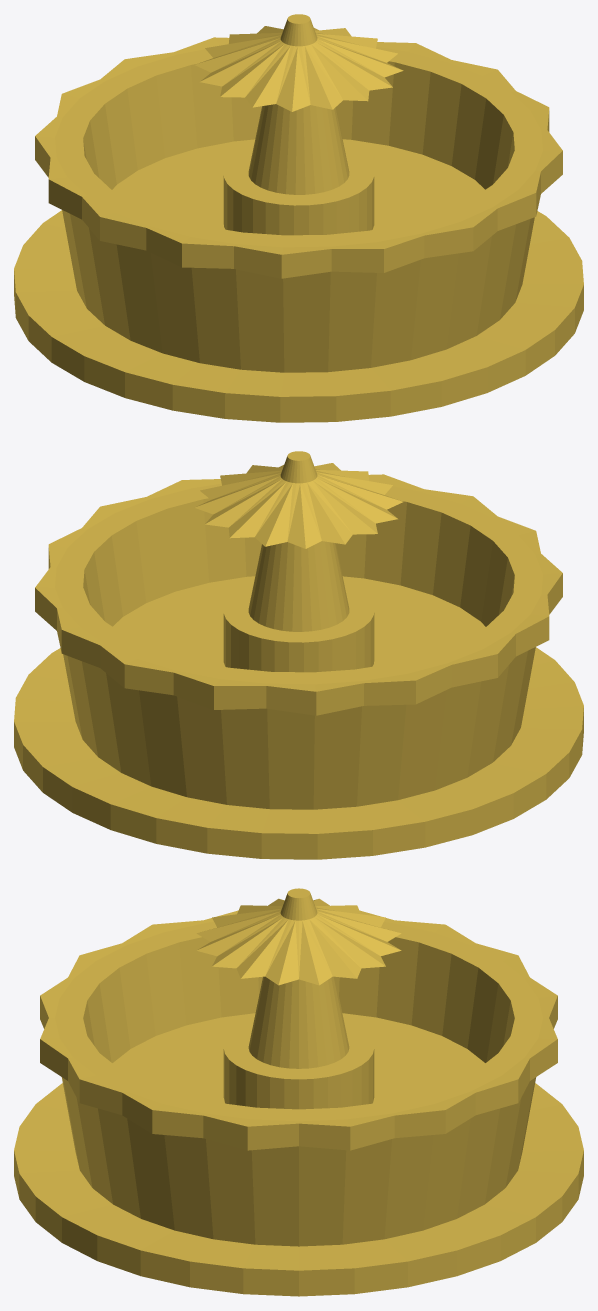
The model's file is fuente.dae.
3 renders of one model, top to bottom at view 1: azimuth 30°, elevation 25°; view 2: azimuth 150°, elevation 25°; view 3: azimuth 270°, elevation 25°, orthographic.
Parts seen in each view (by area): view 1: Cylinder; view 2: Cylinder; view 3: Cylinder.
Part boxes in pixels (x1,y1,x2,y2): Cylinder: (14,14,583,422); Cylinder: (14,451,583,859); Cylinder: (14,888,583,1296).
Size of the model in its own units: 59.97 by 59.97 by 32.82.
